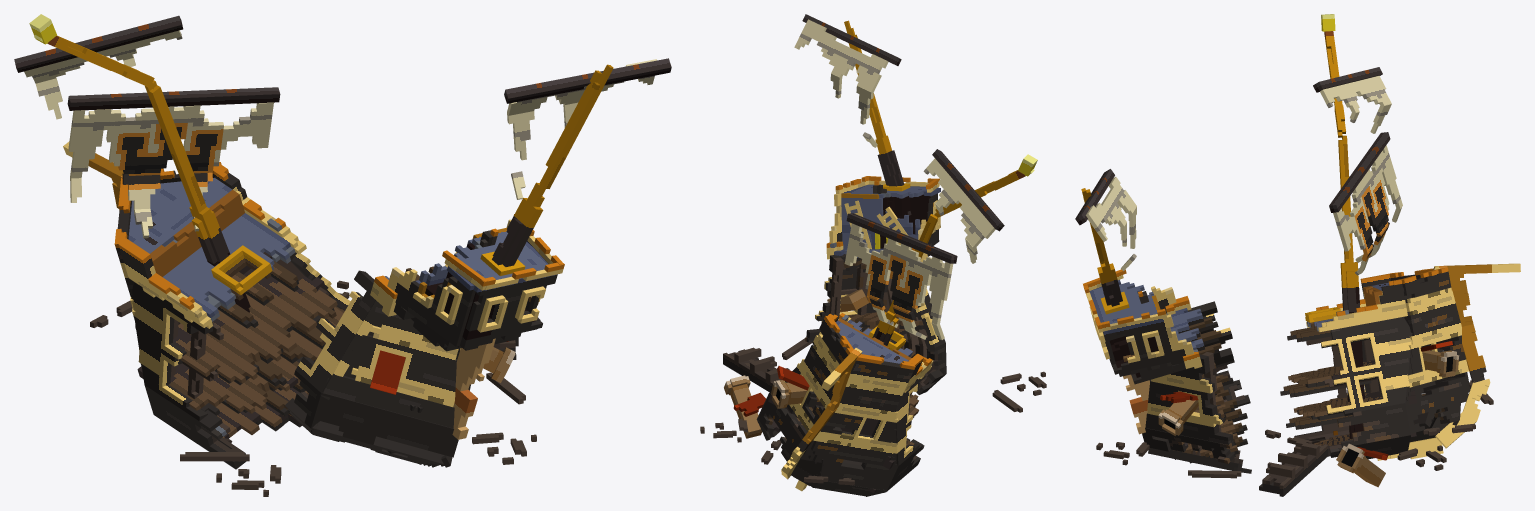
File: wreck_RNavy_frigate03.gltf
3 renders of one model, left to right at view 1: azimuth 30°, elevation 25°; view 2: azimuth 150°, elevation 25°; view 3: azimuth 270°, elevation 25°, orthographic. The views are drawn at different scales.
Parts seen in each view (by area): view 1: wreck_bow-Local, wreck_stern-Local, sail_main_01$$(3)-Local, Rightback03$$(1)-Local, Right_L1$$(1)-Local, ship_back_large$$(2)-Local, side-01$$(1)-Local, mast_fore$$(3)-Local, foremast_broken_bttm-Local, Right_L1-Local, crossbeam02-Local, i1$$(1)-Local (+17 smaller); view 2: ship_bow$$(2)-Local, sail_main_01$$(3)-Local, wreck_stern-Local, wreck_bow-Local, sail_fore_01$$(3)-Local, Leftback03-Local, sail_main_01$$(6)-Local, mast_fore$$(3)-Local, debris01-Local, crossbeam02-Local, Right_L1$$(1)-Local, crossbeam01-Local (+22 smaller); view 3: ship_bow$$(2)-Local, wreck_stern-Local, wreck_bow-Local, Left_L1$$(1)-Local, Leftback03-Local, sail_main_01$$(3)-Local, side-01-Local, foremast_broken_bttm-Local, debris01-Local, i1$$(2)-Local, sail_fore_01$$(3)-Local, sail_main_01$$(6)-Local (+21 smaller).
Boxes of the visible parts, box(x1,y1,x2,y2) form: wreck_bow-Local: box(118, 164, 343, 438); wreck_stern-Local: box(370, 227, 564, 453); sail_main_01$$(3)-Local: box(68, 102, 273, 178); Rightback03$$(1)-Local: box(323, 302, 458, 428); Right_L1$$(1)-Local: box(132, 282, 223, 421); ship_back_large$$(2)-Local: box(314, 385, 470, 457); side-01$$(1)-Local: box(387, 250, 487, 346); mast_fore$$(3)-Local: box(492, 64, 613, 266); foremast_broken_bttm-Local: box(145, 80, 250, 312); Right_L1-Local: box(295, 270, 375, 392); crossbeam02-Local: box(67, 87, 280, 110); i1$$(1)-Local: box(144, 385, 246, 469); ship_bow$$(2)-Local: box(758, 316, 915, 490); sail_main_01$$(3)-Local: box(844, 223, 953, 325); wreck_stern-Local: box(826, 176, 940, 335); wreck_bow-Local: box(768, 313, 933, 493); sail_fore_01$$(3)-Local: box(794, 19, 888, 92); Leftback03-Local: box(806, 254, 889, 339); sail_main_01$$(6)-Local: box(923, 158, 995, 248); mast_fore$$(3)-Local: box(844, 20, 911, 215); debris01-Local: box(723, 347, 789, 392); crossbeam02-Local: box(846, 213, 957, 263); Right_L1$$(1)-Local: box(893, 375, 924, 465); crossbeam01-Local: box(932, 149, 1004, 231); ship_bow$$(2)-Local: box(1389, 267, 1470, 433); wreck_stern-Local: box(1083, 279, 1247, 463); wreck_bow-Local: box(1280, 274, 1425, 456); Left_L1$$(1)-Local: box(1321, 316, 1411, 416); Leftback03-Local: box(1145, 352, 1233, 444); sail_main_01$$(3)-Local: box(1333, 145, 1402, 255); side-01-Local: box(1097, 308, 1193, 376); foremast_broken_bttm-Local: box(1338, 135, 1364, 438); debris01-Local: box(1259, 441, 1328, 496); i1$$(2)-Local: box(1337, 403, 1410, 447); sail_fore_01$$(3)-Local: box(1086, 177, 1136, 241); sail_main_01$$(6)-Local: box(1320, 75, 1391, 113).
Size of the model in its own units: 103 by 99.61 by 109.
Materials: 82 (82 with a texture image).
